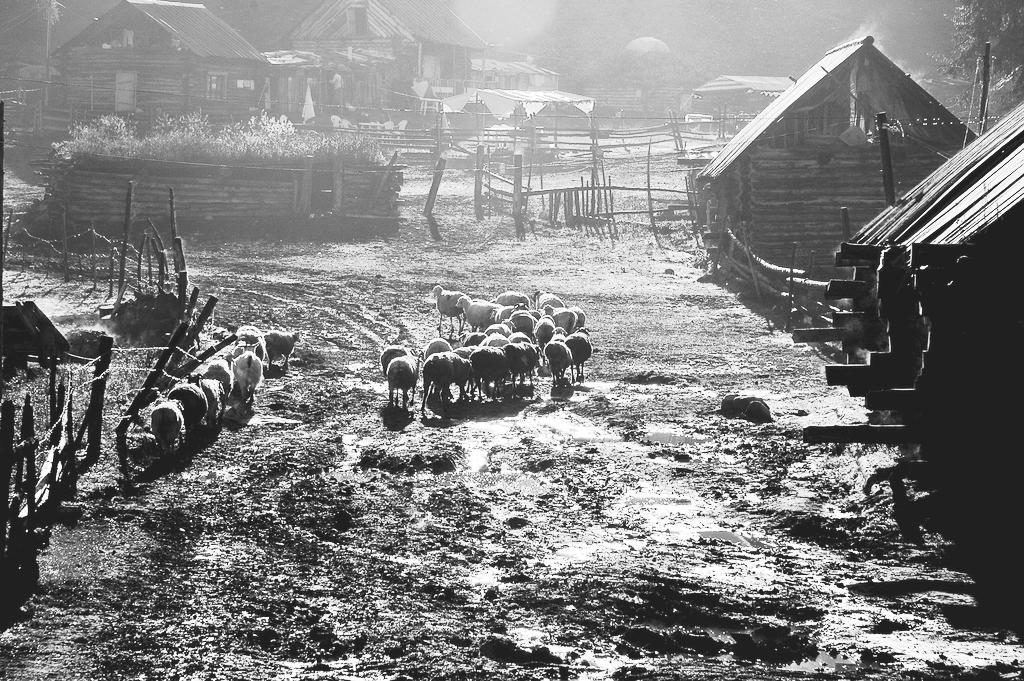Sheep: (231, 336, 273, 411), (425, 286, 474, 333), (456, 293, 503, 339), (385, 356, 424, 411), (540, 333, 575, 387), (266, 330, 307, 372), (566, 325, 595, 379), (532, 288, 570, 317), (487, 291, 533, 310)
